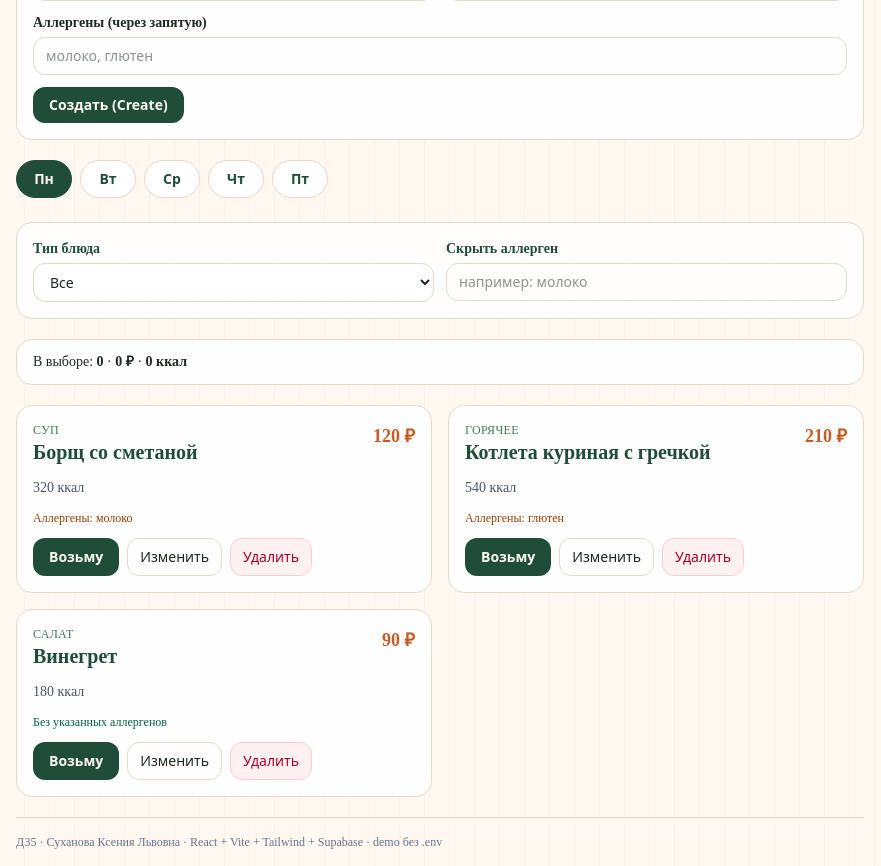
Test case: App MenuBoard › отмечает блюдо и обновляет итог
(page scrolled)
Expected: the element with test id "dish-d-mon-soup" is shown, [16,405,432,593]
Step 1. Click the button "Возьму" below "молоко" → [76, 557], box [33,538,119,576]
(page scrolled)
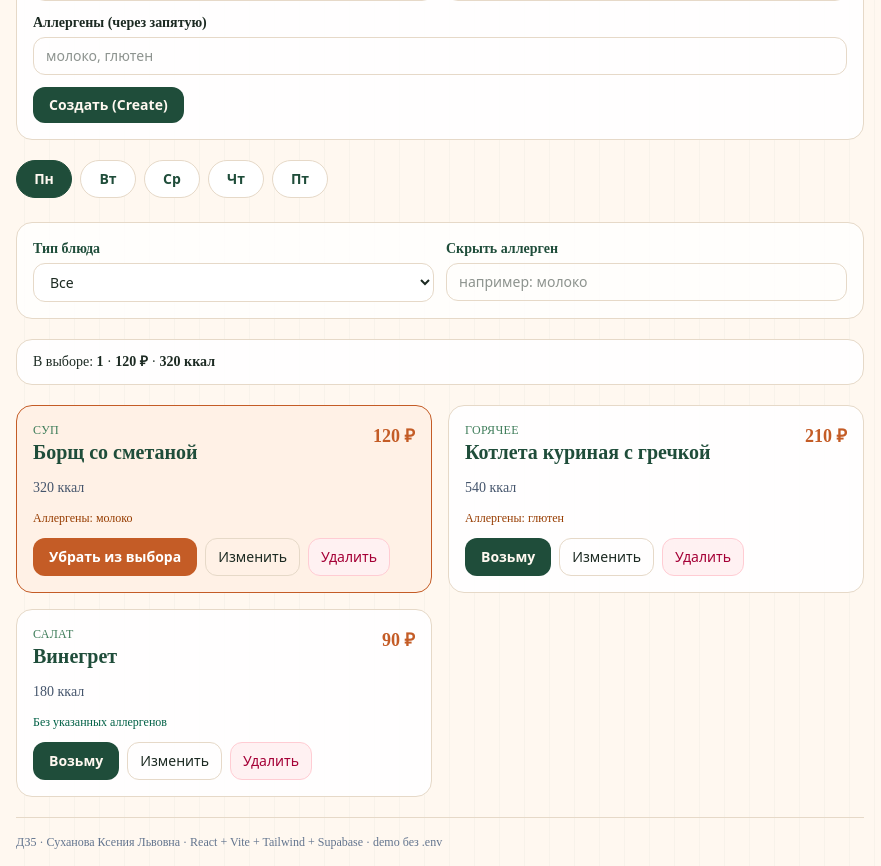
Result: the element with test id "pick-summary" shows "1" at [97,354,104,369]
